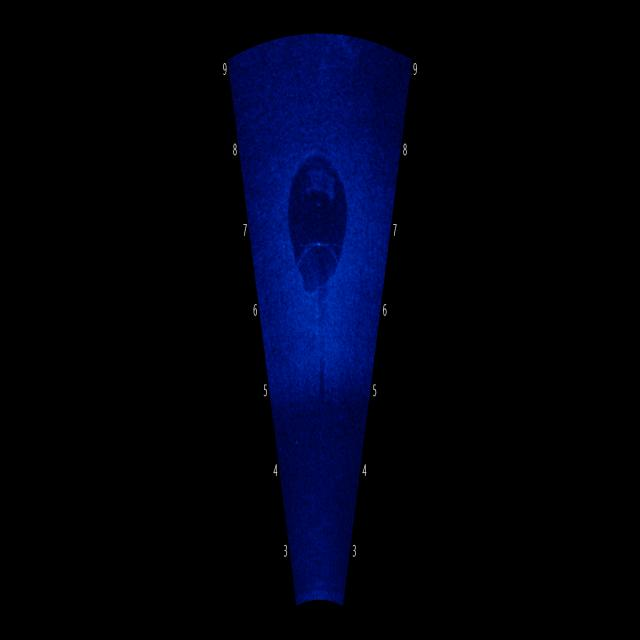circle: (280, 126, 366, 302)
